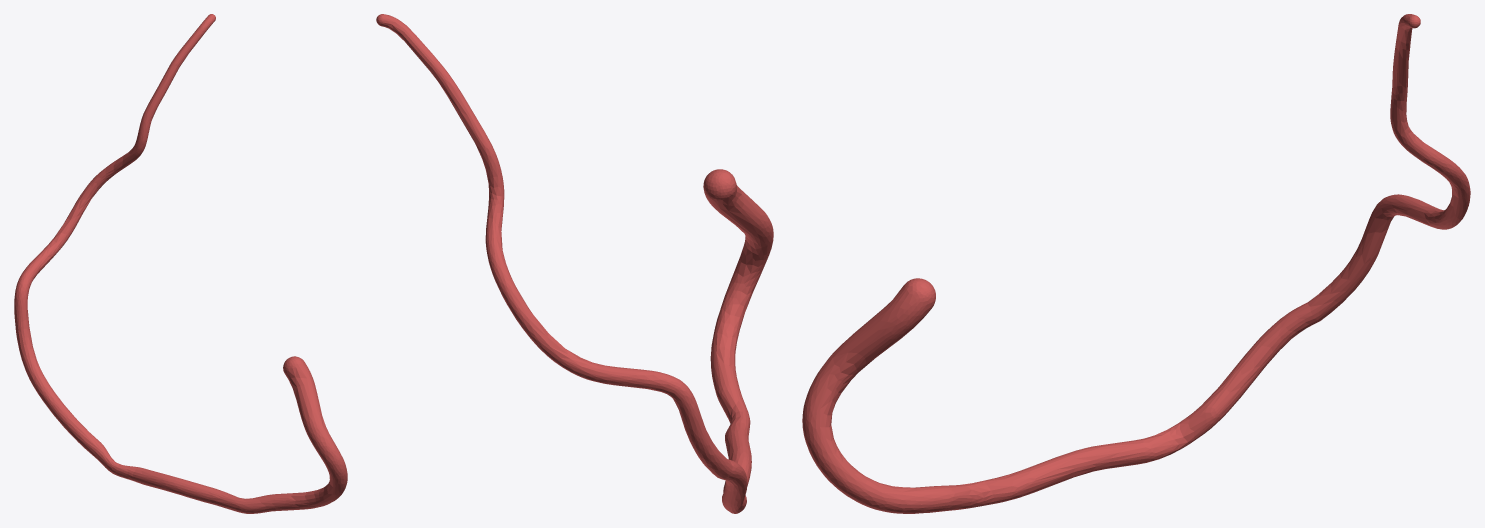
The picture shows the model from 3 angles, left to right: view 1: azimuth 30°, elevation 25°; view 2: azimuth 150°, elevation 25°; view 3: azimuth 270°, elevation 25°; orthographic projection. The views are drawn at different scales.
Visible parts, largest first — view 1: FJ2723; view 2: FJ2723; view 3: FJ2723.
Boxes of the visible parts, x1,y1,x2,y2 form: FJ2723: (14, 14, 347, 513); FJ2723: (376, 14, 773, 513); FJ2723: (802, 14, 1470, 513).
Bounding box in the file's own units: 42.49 × 69.19 × 73.13.
